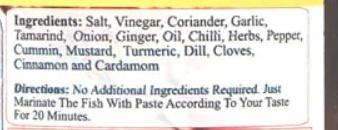ingredients: (11, 10, 313, 78)
